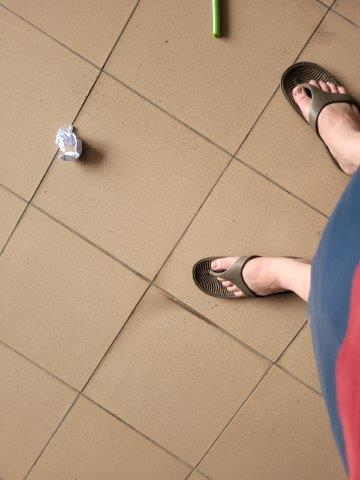kertas: (52, 125, 81, 163)
